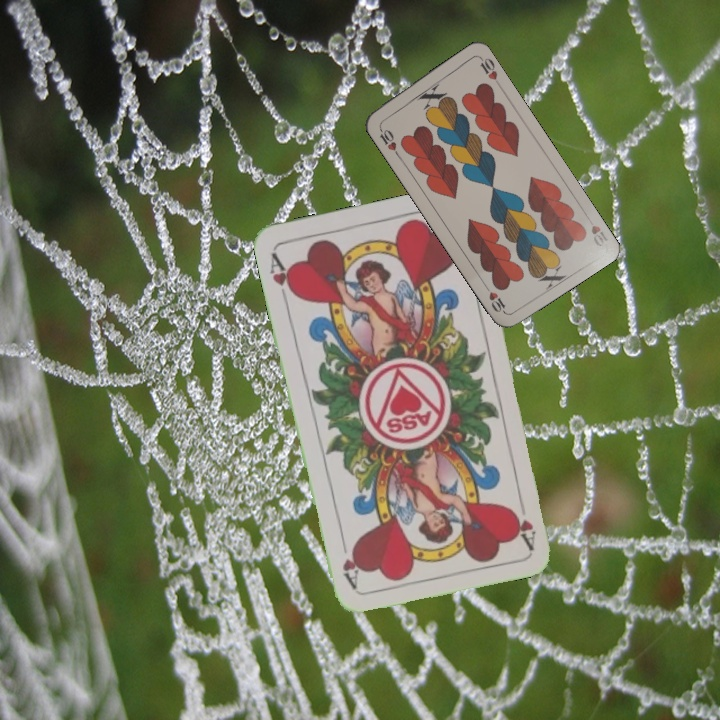H10: (375, 122, 401, 159), (587, 221, 611, 249)
HA: (506, 491, 539, 551), (265, 248, 298, 306)
